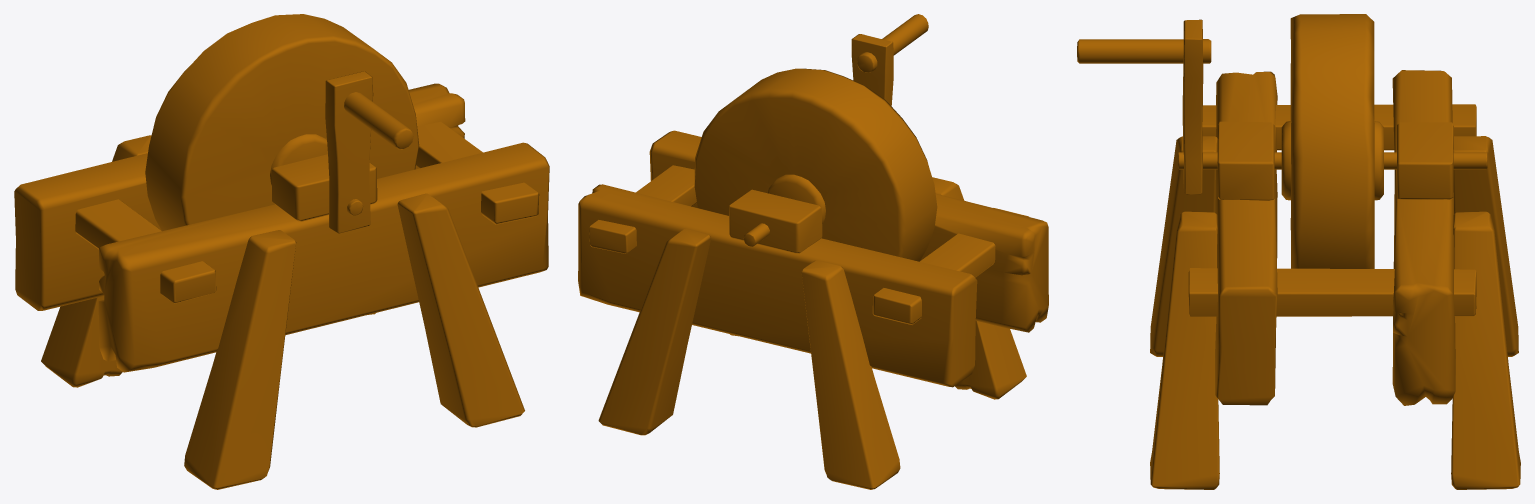
The model's file is Mod_grindstone_LODs.fbx.
The picture shows the model from 3 angles, left to right: view 1: azimuth 30°, elevation 25°; view 2: azimuth 150°, elevation 25°; view 3: azimuth 270°, elevation 25°; orthographic projection. The views are drawn at different scales.
Visible parts, largest first — view 1: grindstone_LOD0; view 2: grindstone_LOD0; view 3: grindstone_LOD0.
Boxes of the visible parts, <box> form: grindstone_LOD0: <box>14,14,549,489</box>; grindstone_LOD0: <box>578,14,1048,489</box>; grindstone_LOD0: <box>1077,14,1520,489</box>.
Bounding box in the file's own units: 112 × 90.92 × 95.19.
